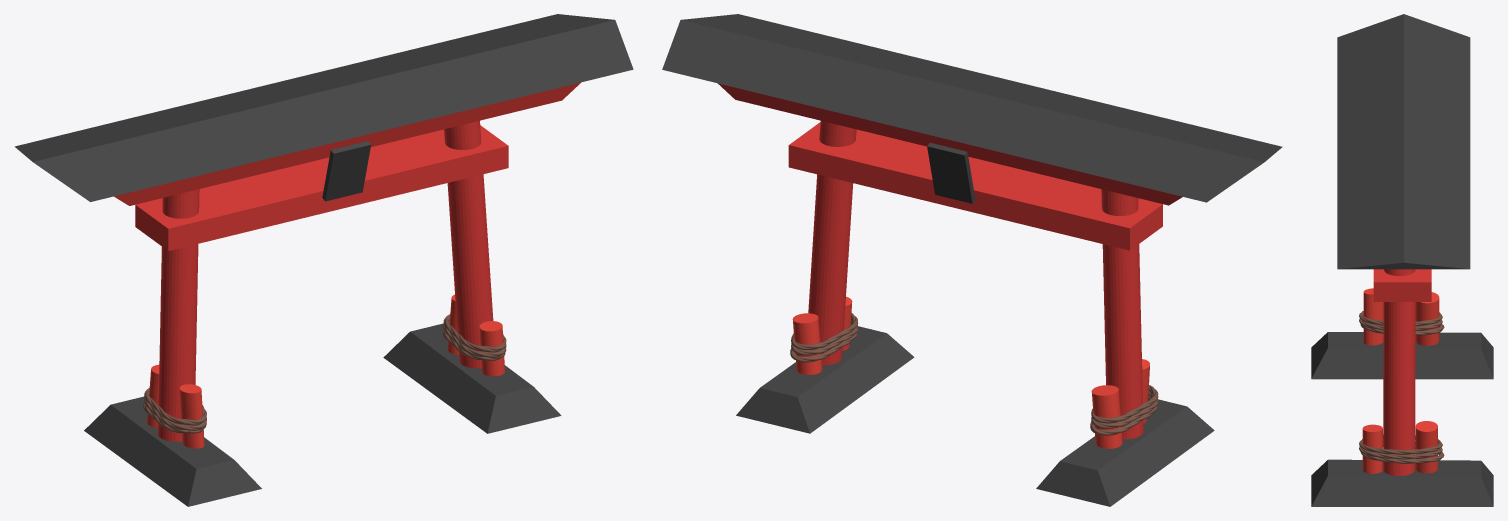
File: japanese_arch.glb
3 renders of one model, left to right at view 1: azimuth 30°, elevation 25°; view 2: azimuth 150°, elevation 25°; view 3: azimuth 270°, elevation 25°, orthographic. The views are drawn at different scales.
Parts seen in each view (by area): view 1: Cube.004, Cube, Foot.001, Foot, Big Tube.000, Big Tube.001, Cube.001, Cube.002, Small Tube 1, Small Tube 1.001; view 2: Cube.004, Cube, Foot.001, Foot, Big Tube.000, Big Tube.001, Cube.001, Cube.003, Small Tube 2, Small Tube 2.001; view 3: Cube.004, Foot.001, Foot, Big Tube.001, Cube, Small Tube 2.001, Small Tube 2, Small Tube 1, Small Tube 1.001, Rope.004, Rope.003, Rope.005 (+3 smaller).
Boxes of the visible parts, <box> form: Cube.004: <box>14,14,633,201</box>; Cube: <box>135,125,508,250</box>; Foot.001: <box>383,323,561,433</box>; Foot: <box>84,396,261,506</box>; Big Tube.000: <box>158,189,199,441</box>; Big Tube.001: <box>444,120,493,368</box>; Cube.001: <box>114,82,581,205</box>; Cube.002: <box>322,141,370,201</box>; Small Tube 1: <box>179,384,204,448</box>; Small Tube 1.001: <box>479,321,504,376</box>; Cube.004: <box>662,14,1282,202</box>; Cube: <box>788,122,1162,250</box>; Foot.001: <box>736,326,914,433</box>; Foot: <box>1036,399,1214,506</box>; Big Tube.000: <box>1101,189,1143,439</box>; Big Tube.001: <box>808,121,856,365</box>; Cube.001: <box>718,83,1182,205</box>; Cube.003: <box>927,142,975,203</box>; Small Tube 2: <box>1091,385,1122,448</box>; Small Tube 2.001: <box>792,313,822,374</box>; Cube.004: <box>1337,14,1470,269</box>; Foot.001: <box>1311,459,1493,506</box>; Foot: <box>1311,332,1493,379</box>; Big Tube.001: <box>1383,269,1415,475</box>; Cube: <box>1373,269,1431,301</box>; Small Tube 2.001: <box>1415,421,1437,473</box>; Small Tube 2: <box>1415,292,1439,345</box>; Small Tube 1: <box>1363,288,1383,345</box>; Small Tube 1.001: <box>1362,424,1382,473</box>; Rope.004: <box>1359,434,1442,454</box>; Rope.003: <box>1359,439,1442,459</box>; Rope.005: <box>1360,443,1444,463</box>.
Bounding box in the file's own units: 4.33 × 2.35 × 1.34.
